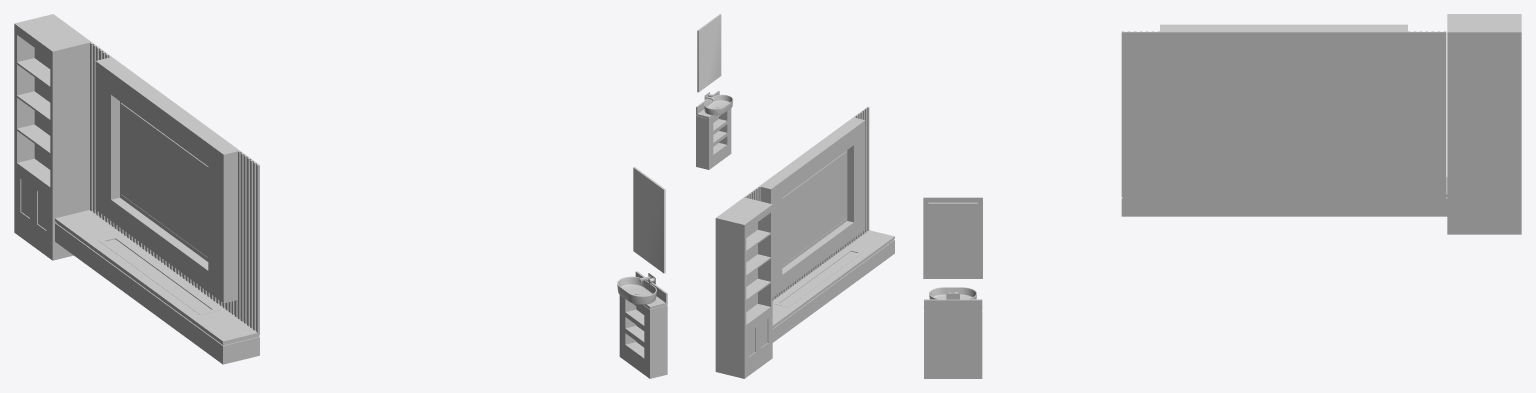
Rendered from PS01__TrueVision__MainBuildingModel__ExistingFixtures__MeshModel__.glb.
3 views of the same model, side by side, from view 1: azimuth 30°, elevation 25°; view 2: azimuth 150°, elevation 25°; view 3: azimuth 270°, elevation 25° (orthographic). The views are drawn at different scales.
Parts seen in each view (by area): view 1: 17__ExistingBuilding__Fixtures::Default, 17__ExistingBuilding__Fixtures::MAT140__Mirror__ClearDefault; view 2: 17__ExistingBuilding__Fixtures::Default, 17__ExistingBuilding__Fixtures::MAT140__Mirror__ClearDefault; view 3: 17__ExistingBuilding__Fixtures::Default.
Boxes of the visible parts, bbox=[...] form: 17__ExistingBuilding__Fixtures::Default: bbox=[14, 14, 667, 378]; 17__ExistingBuilding__Fixtures::MAT140__Mirror__ClearDefault: bbox=[633, 168, 665, 273]; 17__ExistingBuilding__Fixtures::Default: bbox=[696, 14, 894, 378]; 17__ExistingBuilding__Fixtures::MAT140__Mirror__ClearDefault: bbox=[697, 14, 721, 92]; 17__ExistingBuilding__Fixtures::Default: bbox=[923, 14, 1521, 378].
Size of the model in its own units: 3.88 by 2.25 by 6.03.
2 materials, 1 textured.
